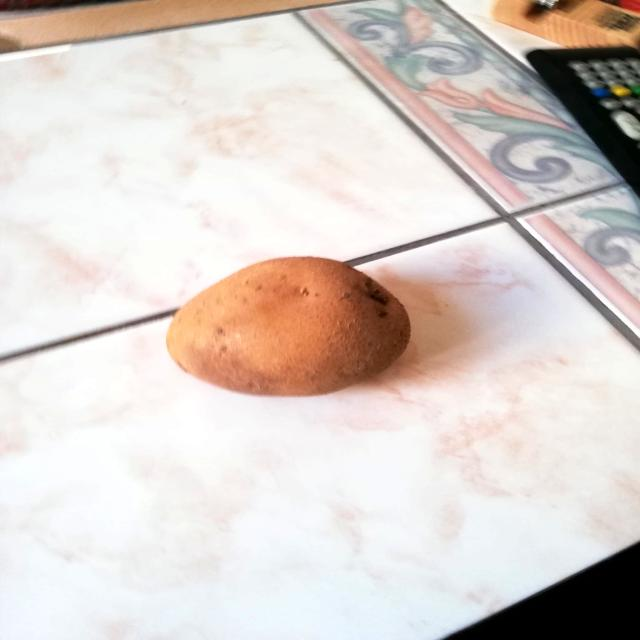potato: (155, 247, 421, 402)
